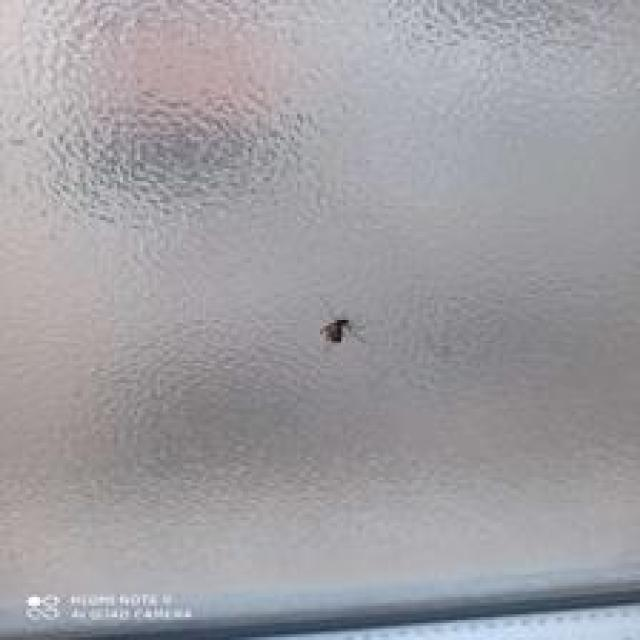Aedes albopictus: (319, 317, 350, 343)
